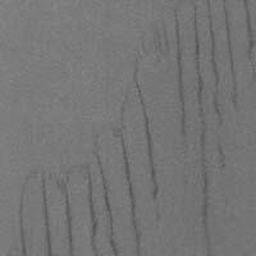Inclusion: (93, 0, 191, 256), (17, 159, 102, 256), (192, 0, 215, 242), (205, 0, 229, 170), (219, 0, 243, 111), (242, 0, 256, 90), (5, 248, 14, 256)
